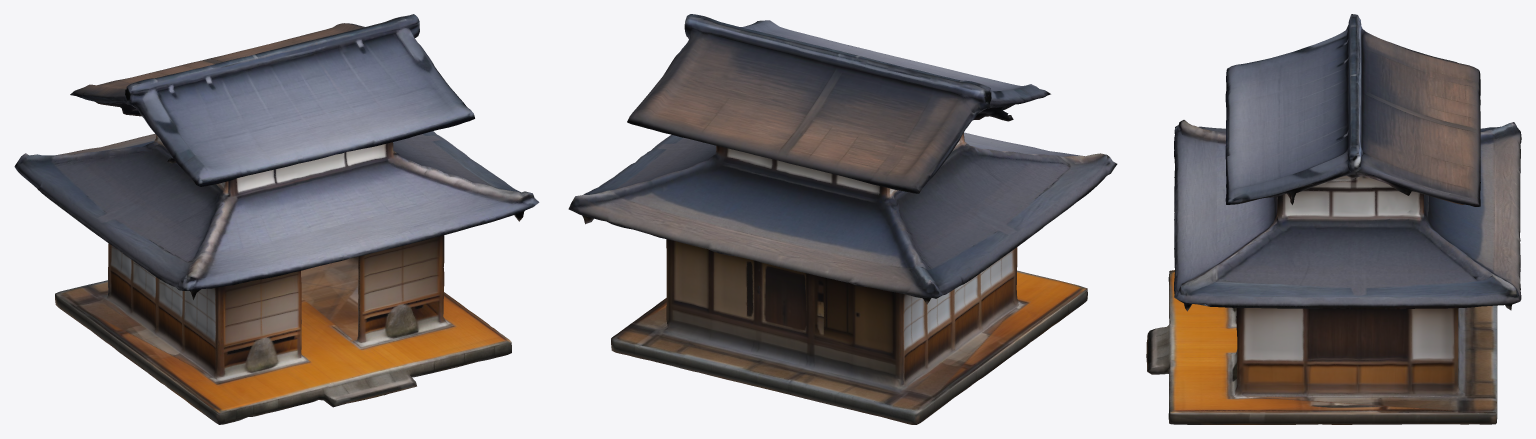
Rendered from castle.glb.
The picture shows the model from 3 angles, left to right: view 1: azimuth 30°, elevation 25°; view 2: azimuth 150°, elevation 25°; view 3: azimuth 270°, elevation 25°; orthographic projection. The views are drawn at different scales.
Bounding box in the file's own units: 1.98 × 1.45 × 1.81.
1 material, 1 textured.
